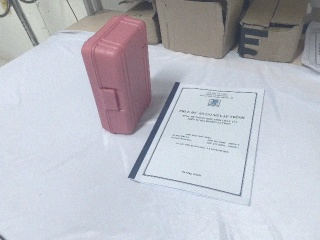box: (79, 11, 154, 137), (154, 1, 250, 60), (236, 1, 311, 63)
